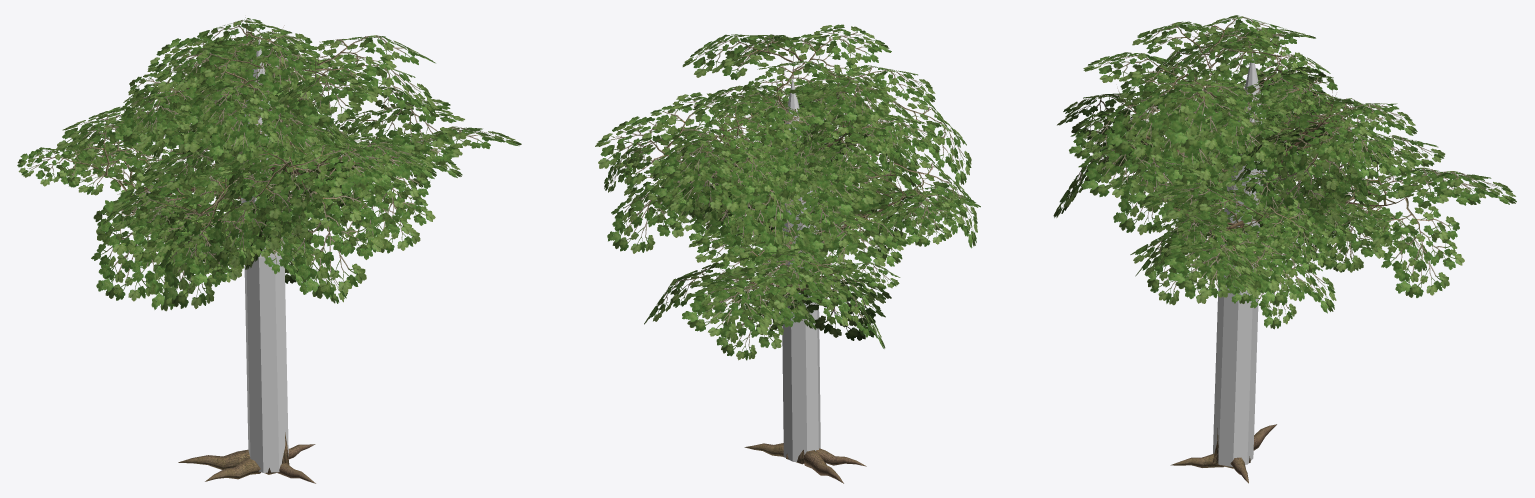
The model's file is tree_3.dae.
3 views of the same model, side by side, from view 1: azimuth 30°, elevation 25°; view 2: azimuth 150°, elevation 25°; view 3: azimuth 270°, elevation 25° (orthographic). The views are drawn at different scales.
Visible parts, largest first — view 1: Leafs_H, Leafs_reverse_H, Volume_H, Bark_H; view 2: Leafs_H, Leafs_reverse_H, Volume_H, Bark_H; view 3: Leafs_H, Leafs_reverse_H, Volume_H, Bark_H.
Boxes of the visible parts, left/top/right/bottom form: Leafs_H: left=17, top=18, right=521, bottom=310; Leafs_reverse_H: left=17, top=18, right=521, bottom=311; Volume_H: left=240, top=39, right=288, bottom=472; Bark_H: left=93, top=17, right=393, bottom=483; Leafs_H: left=595, top=24, right=980, bottom=359; Leafs_reverse_H: left=595, top=25, right=980, bottom=360; Volume_H: left=780, top=78, right=820, bottom=461; Bark_H: left=657, top=46, right=928, bottom=483; Leafs_H: left=1054, top=15, right=1516, bottom=328; Leafs_reverse_H: left=1053, top=15, right=1516, bottom=329; Volume_H: left=1213, top=53, right=1267, bottom=466; Bark_H: left=1110, top=34, right=1410, bottom=483.
Size of the model in its own units: 10.88 by 10.75 by 10.53.
2 materials, 2 textured.
